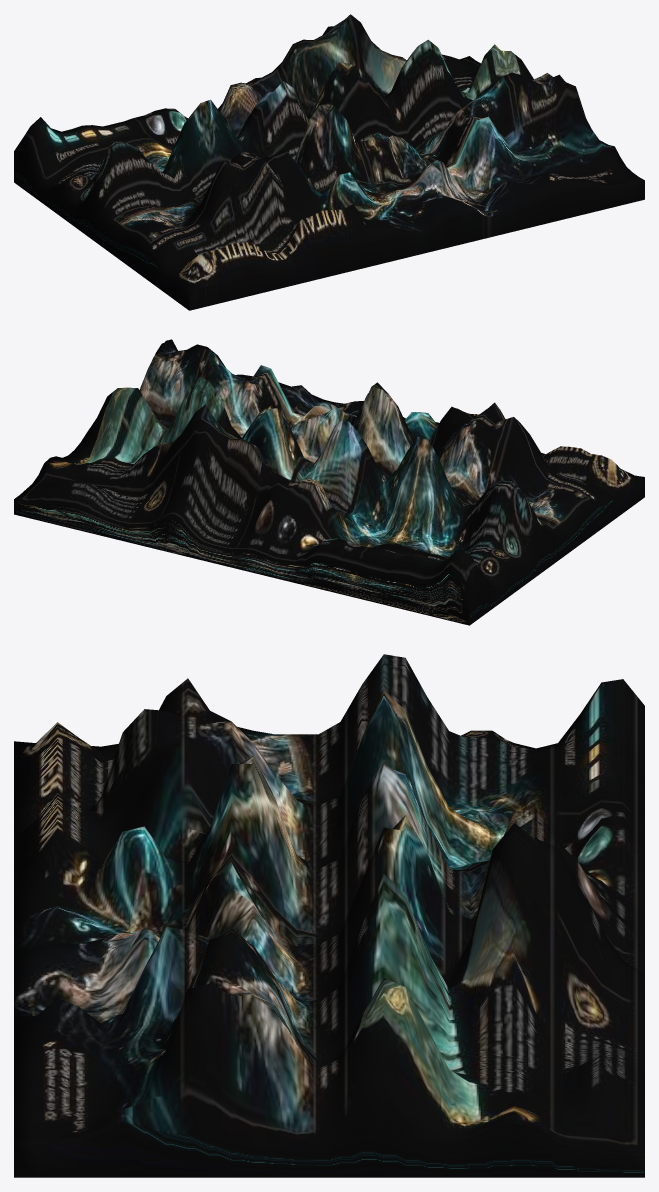
File: CUL_57_Music_Zither.glb
3 renders of one model, top to bottom at view 1: azimuth 30°, elevation 25°; view 2: azimuth 150°, elevation 25°; view 3: azimuth 270°, elevation 25°, orthographic. The views are drawn at different scales.
Visible parts, largest first — view 1: CUL_57_Music_Zither; view 2: CUL_57_Music_Zither; view 3: CUL_57_Music_Zither.
Boxes of the visible parts, x1=… form: CUL_57_Music_Zither: x1=14, y1=14, x2=644, y2=310; CUL_57_Music_Zither: x1=14, y1=339, x2=644, y2=625; CUL_57_Music_Zither: x1=14, y1=654, x2=644, y2=1177.
Size of the model in its own units: 2 by 0.51 by 1.33.
1 material, 1 textured.
